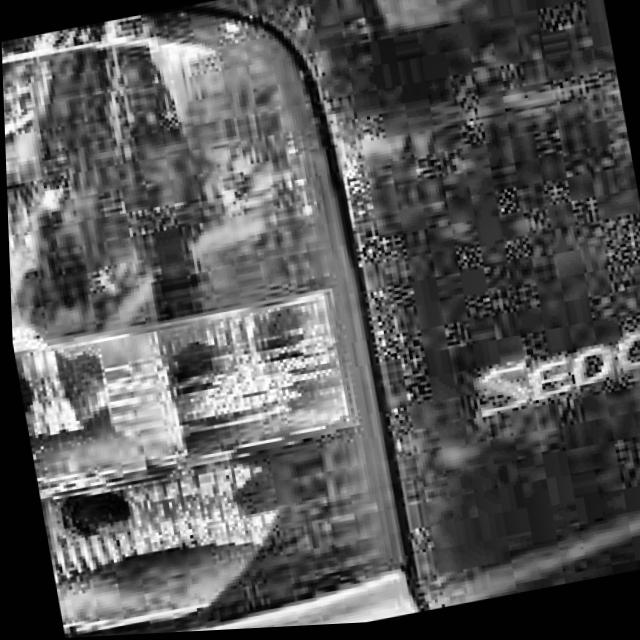tail_lamp: (18, 264, 364, 630)
